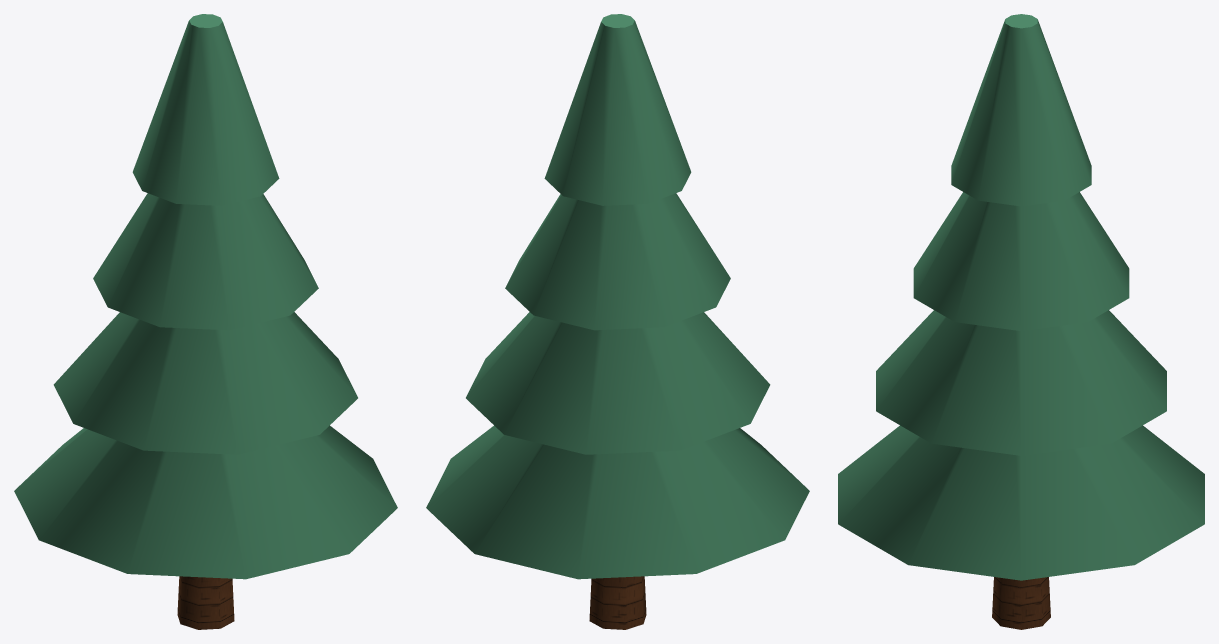
File: pine.glb
3 views of the same model, side by side, from view 1: azimuth 30°, elevation 25°; view 2: azimuth 150°, elevation 25°; view 3: azimuth 270°, elevation 25° (orthographic).
Parts seen in each view (by area): view 1: pine; view 2: pine; view 3: pine.
Boxes of the visible parts, box(x1,y1,x2,y2) form: pine: box(14, 14, 397, 629); pine: box(426, 14, 809, 629); pine: box(838, 14, 1204, 629).
Size of the model in its own units: 3.4 by 5.8 by 3.23.
Materials: 2 (1 with a texture image).
